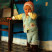baby: (5, 1, 40, 52)
